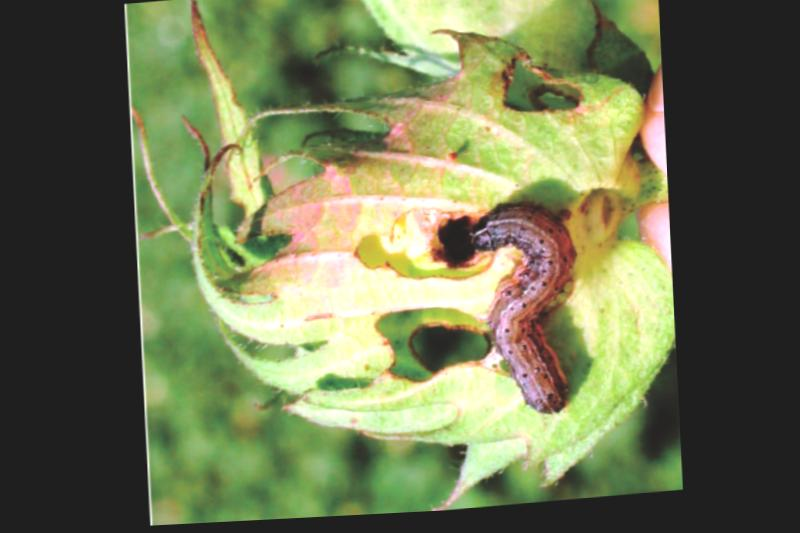fall-armyworm: (471, 205, 577, 417)
